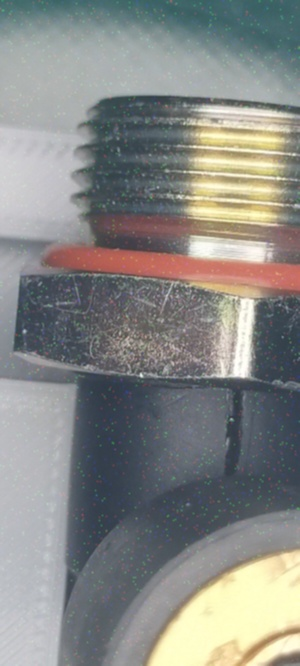craze: (215, 387, 254, 483)
